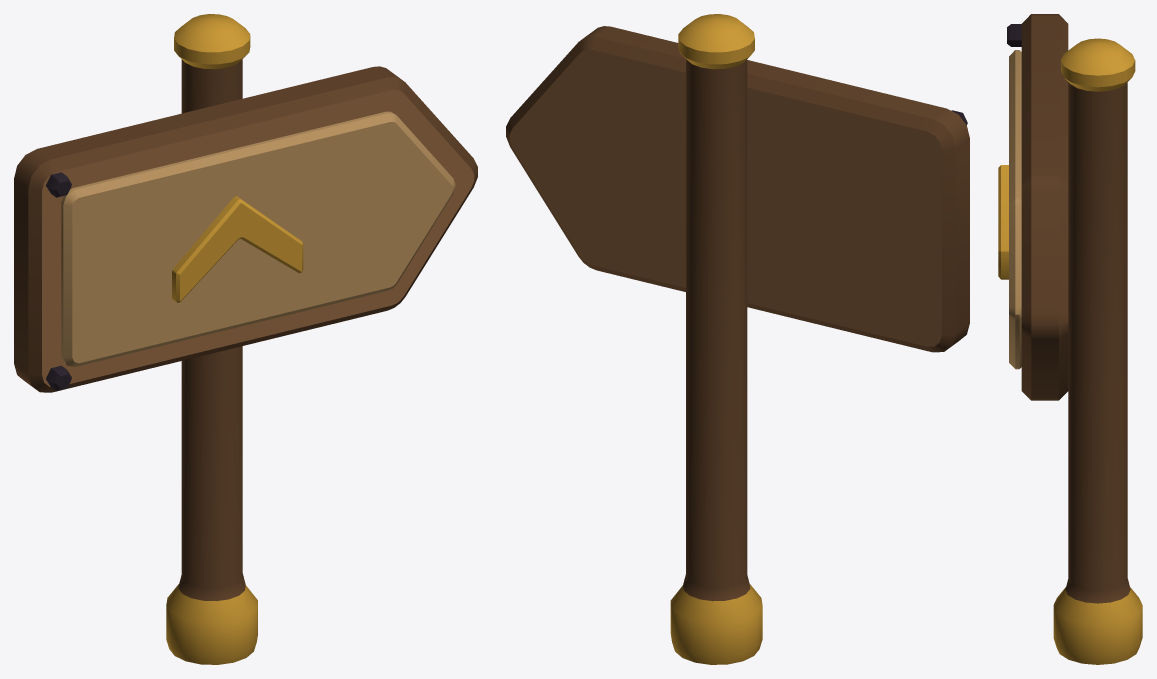
Rendered from Sign_19.glb.
The picture shows the model from 3 angles, left to right: view 1: azimuth 30°, elevation 25°; view 2: azimuth 150°, elevation 25°; view 3: azimuth 270°, elevation 25°; orthographic projection. The views are drawn at different scales.
Parts seen in each view (by area): view 1: Sign_19; view 2: Sign_19; view 3: Sign_19.
Boxes of the visible parts, x1,y1,x2,y2 form: Sign_19: (14,14,477,664); Sign_19: (506,14,969,664); Sign_19: (998,14,1142,664).
Bounding box in the file's own units: 2.35 × 3.14 × 0.68.
